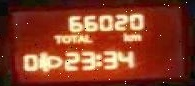0: (21, 52, 36, 72), (128, 12, 143, 29), (98, 13, 111, 30)
2: (61, 50, 78, 71), (111, 12, 126, 31)
3: (78, 48, 93, 71), (101, 47, 116, 68)
4: (116, 48, 135, 68)
6: (66, 13, 81, 32), (81, 13, 96, 30)
X: (81, 32, 91, 42), (60, 33, 70, 43), (51, 32, 60, 43), (130, 32, 141, 41), (121, 31, 130, 42), (95, 52, 101, 67), (76, 33, 83, 43), (70, 33, 76, 43)
